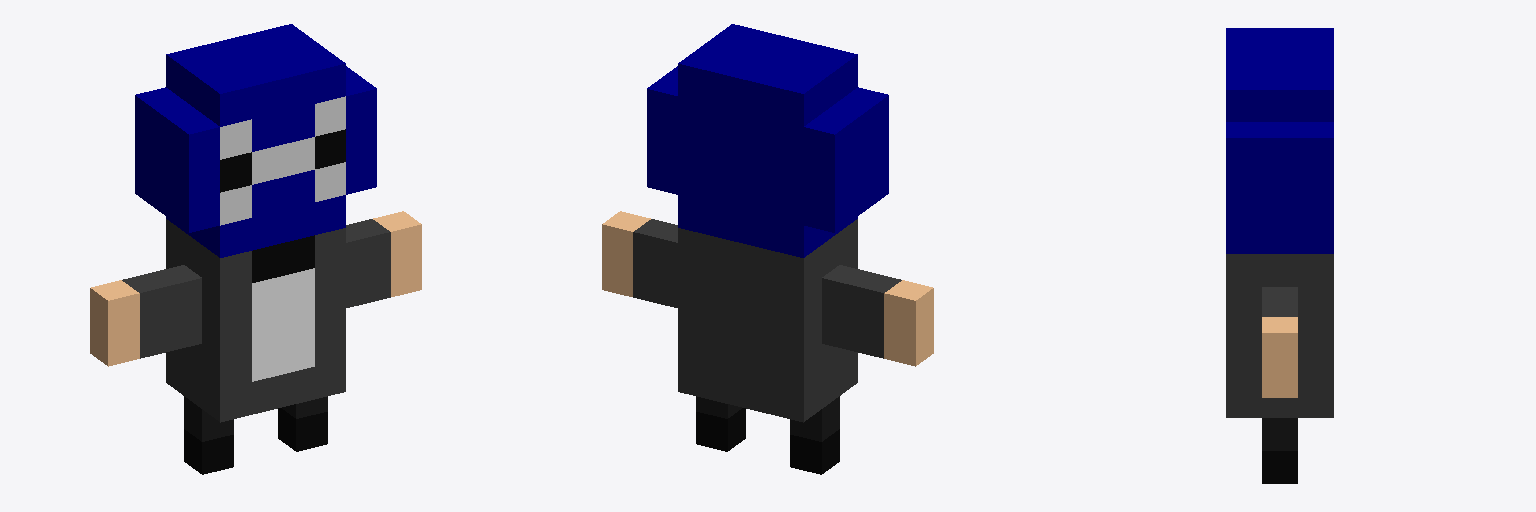
The picture shows the model from 3 angles: view 1: azimuth 30°, elevation 25°; view 2: azimuth 150°, elevation 25°; view 3: azimuth 270°, elevation 25°; orthographic projection.
Parts seen in each view (by area): view 1: object 1; view 2: object 1; view 3: object 1.
Boxes of the visible parts, x1=… form: object 1: x1=90, y1=24, x2=421, y2=474; object 1: x1=602, y1=24, x2=933, y2=474; object 1: x1=1226, y1=28, x2=1333, y2=483.
Bounding box in the file's own units: 1 × 1.2 × 0.3.
1 materials, 1 textured.